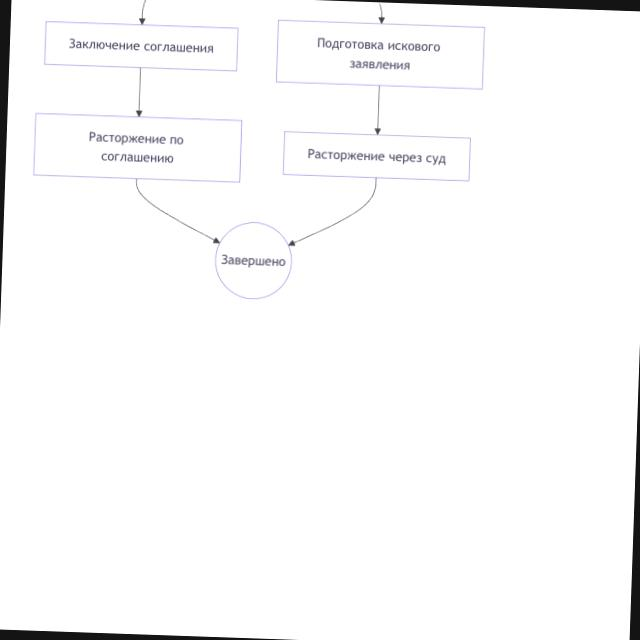arrow: (289, 179, 376, 246), (136, 180, 219, 243), (367, 86, 392, 134), (130, 66, 152, 116)
circle: (216, 223, 292, 299)
rectangle: (276, 21, 485, 89), (33, 114, 241, 182), (44, 22, 239, 71), (284, 132, 471, 181)
